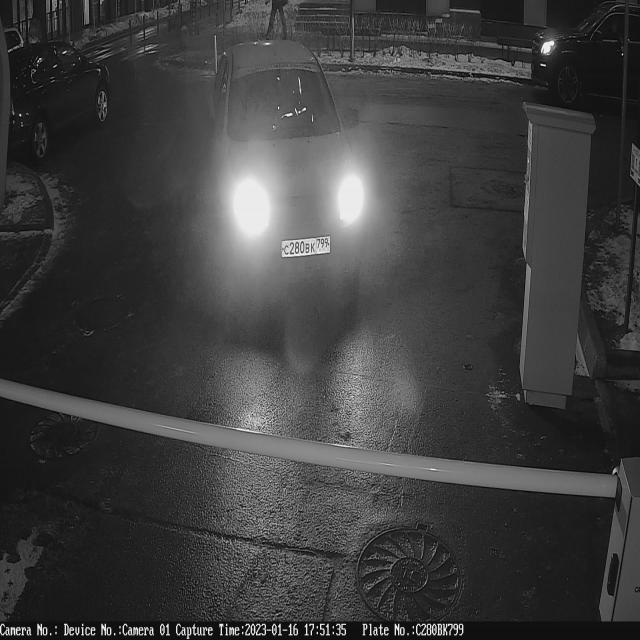car-plate-numbers: (280, 232, 334, 266)
